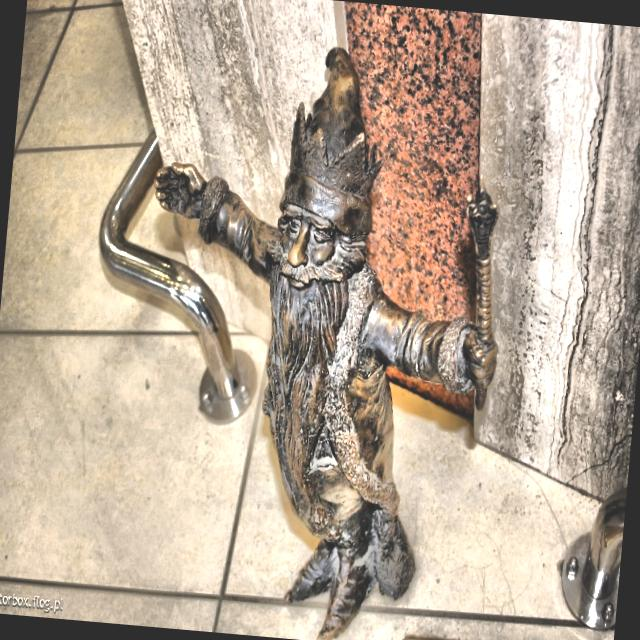Serdecznis: (155, 47, 497, 640)
